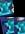recallP: (0, 0, 14, 17), (0, 17, 14, 34), (14, 17, 25, 34)
